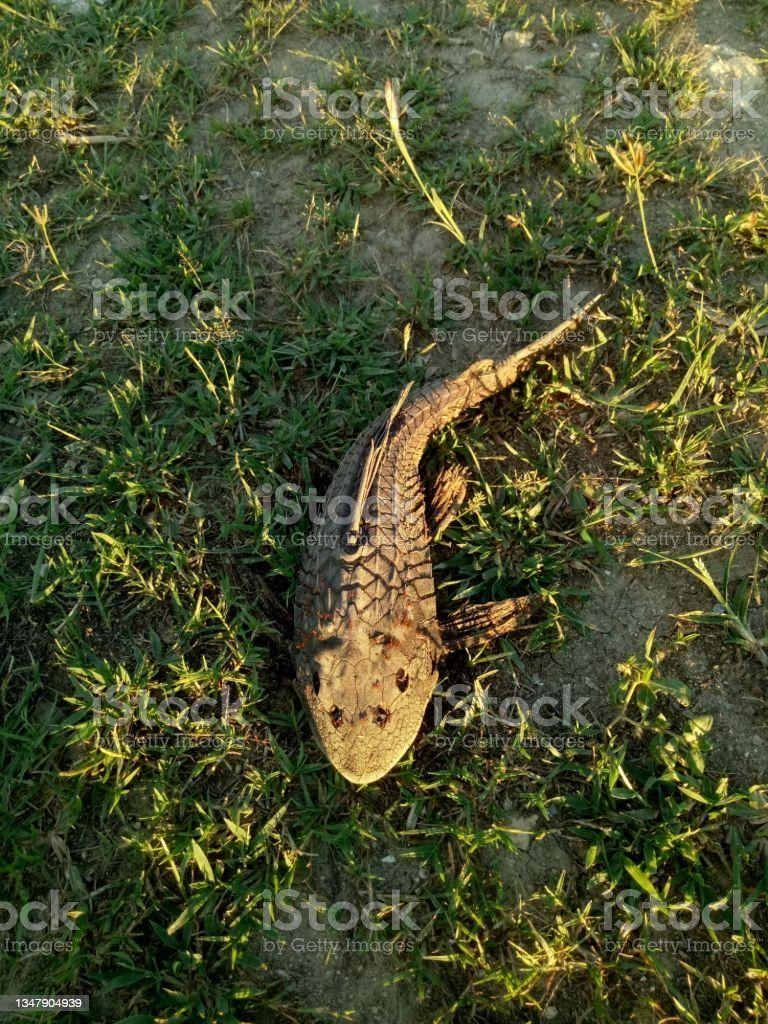Janitor Fish: (298, 285, 590, 785)
